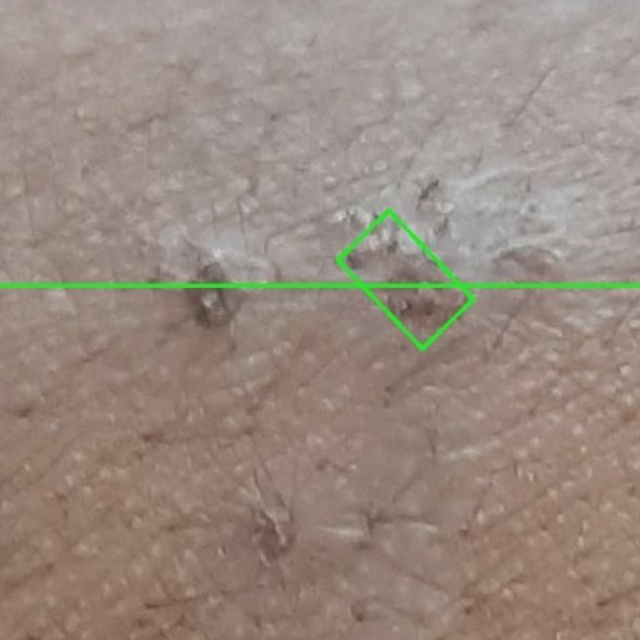Atopic Dermatitis: (0, 0, 639, 285), (338, 211, 474, 349)
